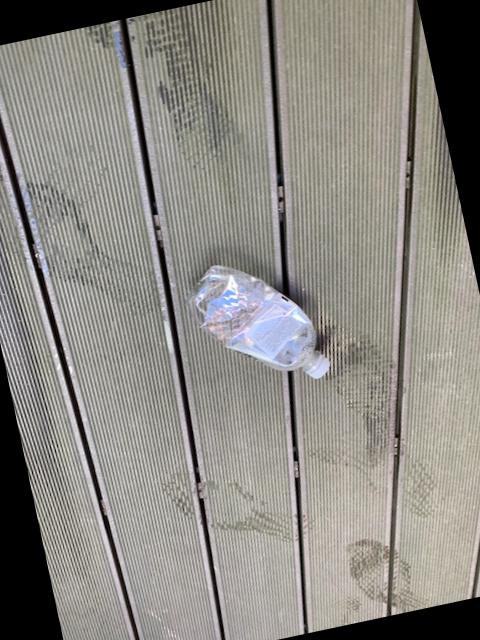plastic: (190, 266, 330, 378)
